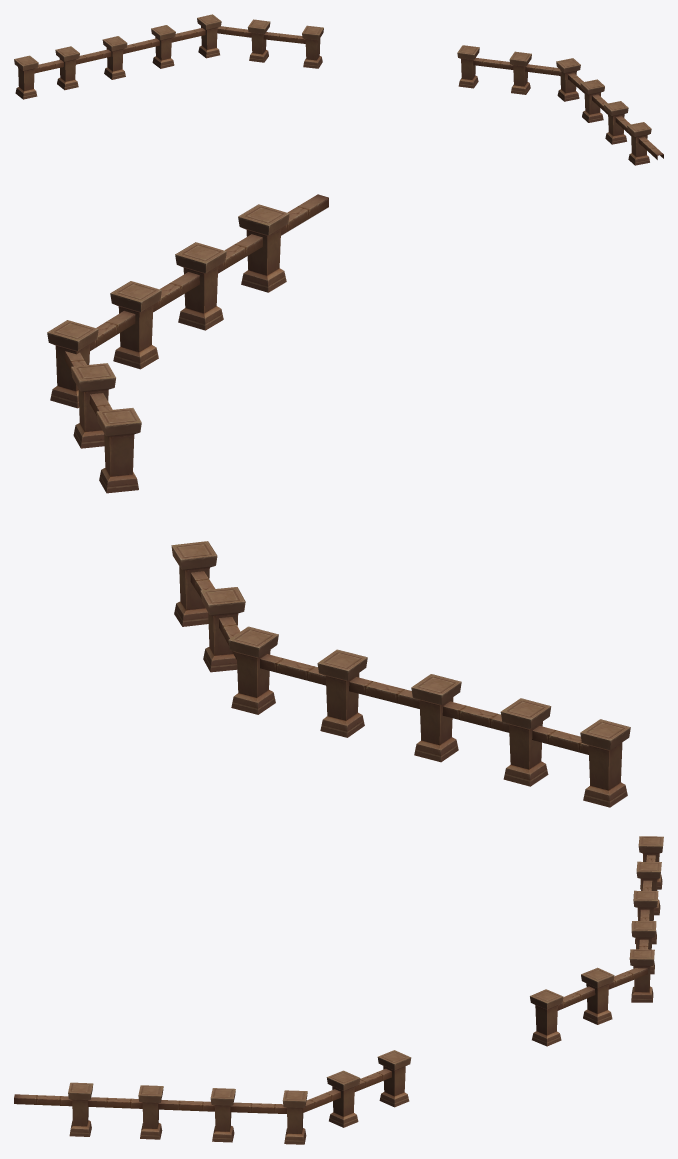
Rendered from Area_11_12.fbx.
3 views of the same model, one above another, from view 1: azimuth 30°, elevation 25°; view 2: azimuth 150°, elevation 25°; view 3: azimuth 270°, elevation 25° (orthographic). The views are drawn at different scales.
Parts seen in each view (by area): view 1: Area_11_12; view 2: Area_11_12; view 3: Area_11_12.
Boxes of the visible parts, x1,y1,x2,y2 form: Area_11_12: [14, 14, 663, 165]; Area_11_12: [47, 194, 630, 807]; Area_11_12: [14, 836, 663, 1144].
Size of the model in its own units: 2002 by 155 by 2074.
